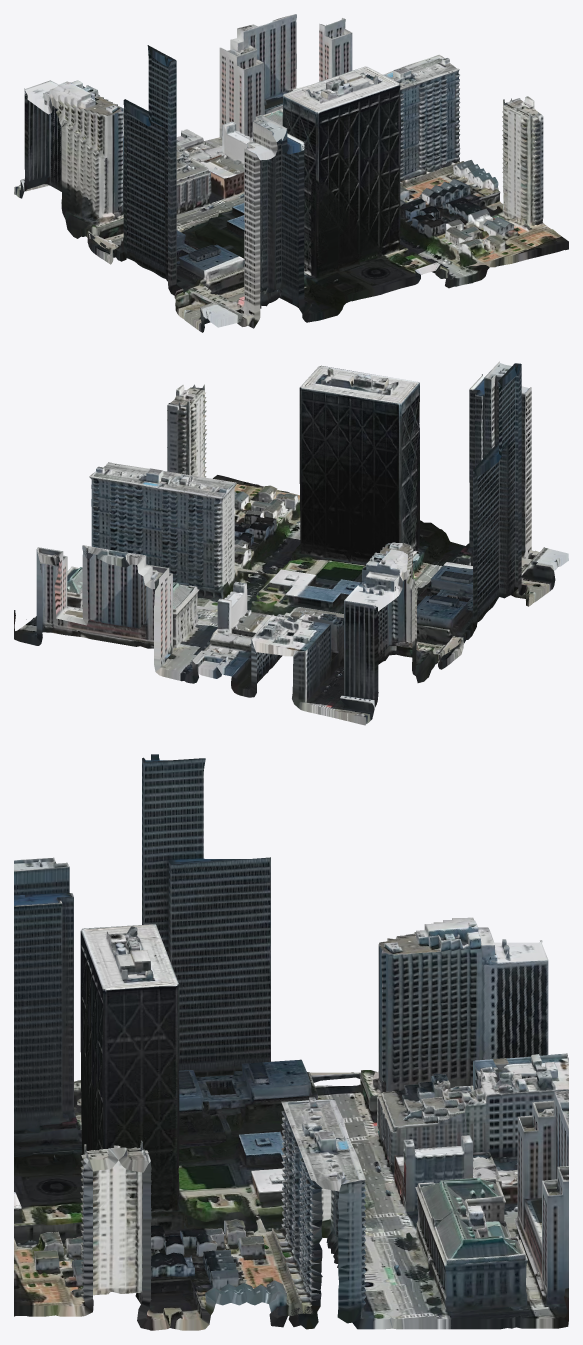
Rendered from z17-20971-50652-h0-yup-uvflip-v3-world.glb.
The picture shows the model from 3 angles, top to bottom: view 1: azimuth 30°, elevation 25°; view 2: azimuth 150°, elevation 25°; view 3: azimuth 270°, elevation 25°; orthographic projection. The views are drawn at different scales.
Size of the model in its own units: 242 by 165 by 243.
1 material, 1 textured.
